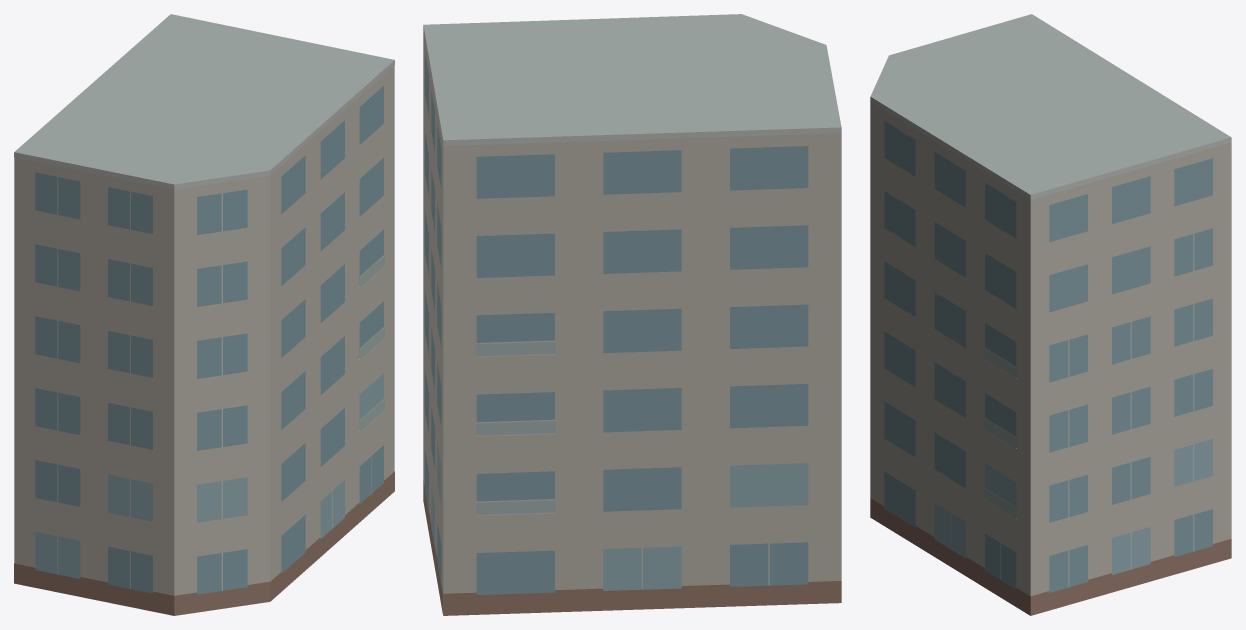
File: survey-upis-32970551.glb
3 views of the same model, side by side, from view 1: azimuth 30°, elevation 25°; view 2: azimuth 150°, elevation 25°; view 3: azimuth 270°, elevation 25° (orthographic). The views are drawn at different scales.
Visible parts, largest first — view 1: survey-upis-32970551.tmp; view 2: survey-upis-32970551.tmp; view 3: survey-upis-32970551.tmp.
Part boxes in pixels (<box>): survey-upis-32970551.tmp: <box>14,14,394,615</box>; survey-upis-32970551.tmp: <box>423,14,841,615</box>; survey-upis-32970551.tmp: <box>870,14,1231,615</box>.
Size of the model in its own units: 18.45 by 20 by 15.56.
